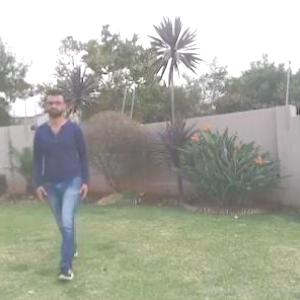follow: (44, 92, 89, 252)
